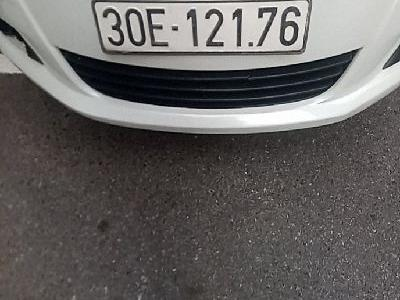number: (91, 1, 310, 54)
